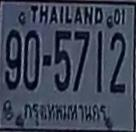0: (24, 30, 40, 91)
1: (97, 30, 103, 93)
2: (110, 32, 126, 94)
5: (55, 30, 71, 91)
7: (74, 30, 89, 92)
9: (5, 29, 22, 89)
BKK: (19, 99, 110, 127)
